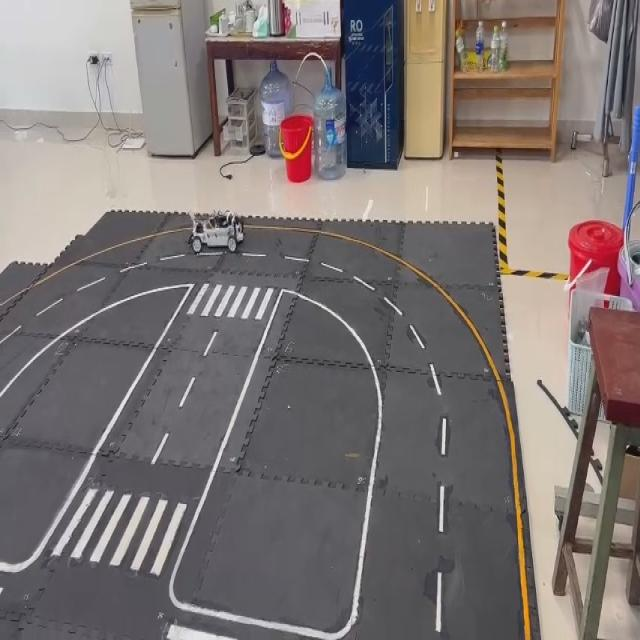SiCo-CAR: (187, 207, 244, 254)
